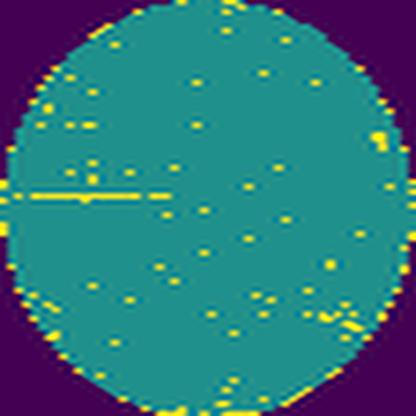Scratch: (24, 186, 176, 211)
